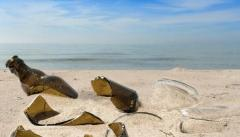glass: (6, 55, 232, 137)
